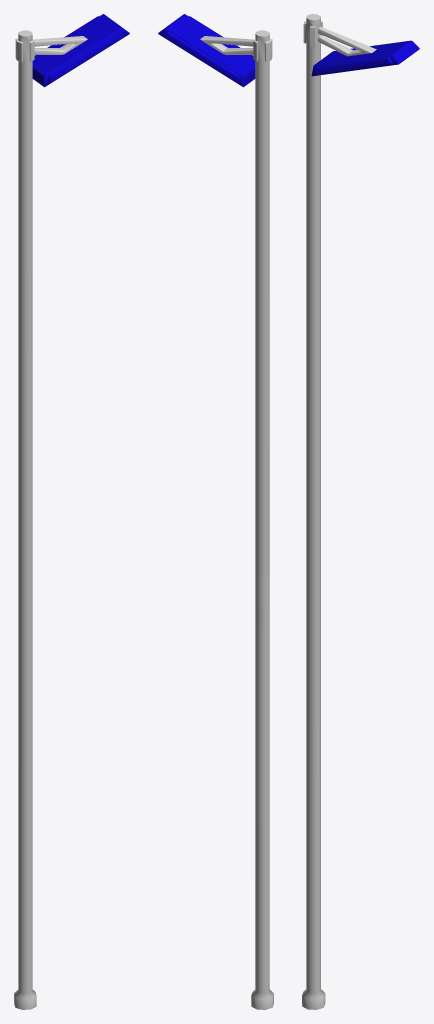
The model's file is SpotlightPost.fbx.
The picture shows the model from 3 angles, left to right: view 1: azimuth 30°, elevation 25°; view 2: azimuth 150°, elevation 25°; view 3: azimuth 330°, elevation 25°; orthographic projection.
Parts seen in each view (by area): view 1: Post, postlamp; view 2: Post, postlamp; view 3: Post, postlamp.
Boxes of the visible parts, x1,y1,x2,y2 form: Post: (14,30,36,1009); postlamp: (32,14,129,87); Post: (251,30,273,1009); postlamp: (158,14,255,87); Post: (302,14,325,1009); postlamp: (311,26,419,76).
Size of what is drawn, in the model's own units: 113 by 1006 by 45.74.
